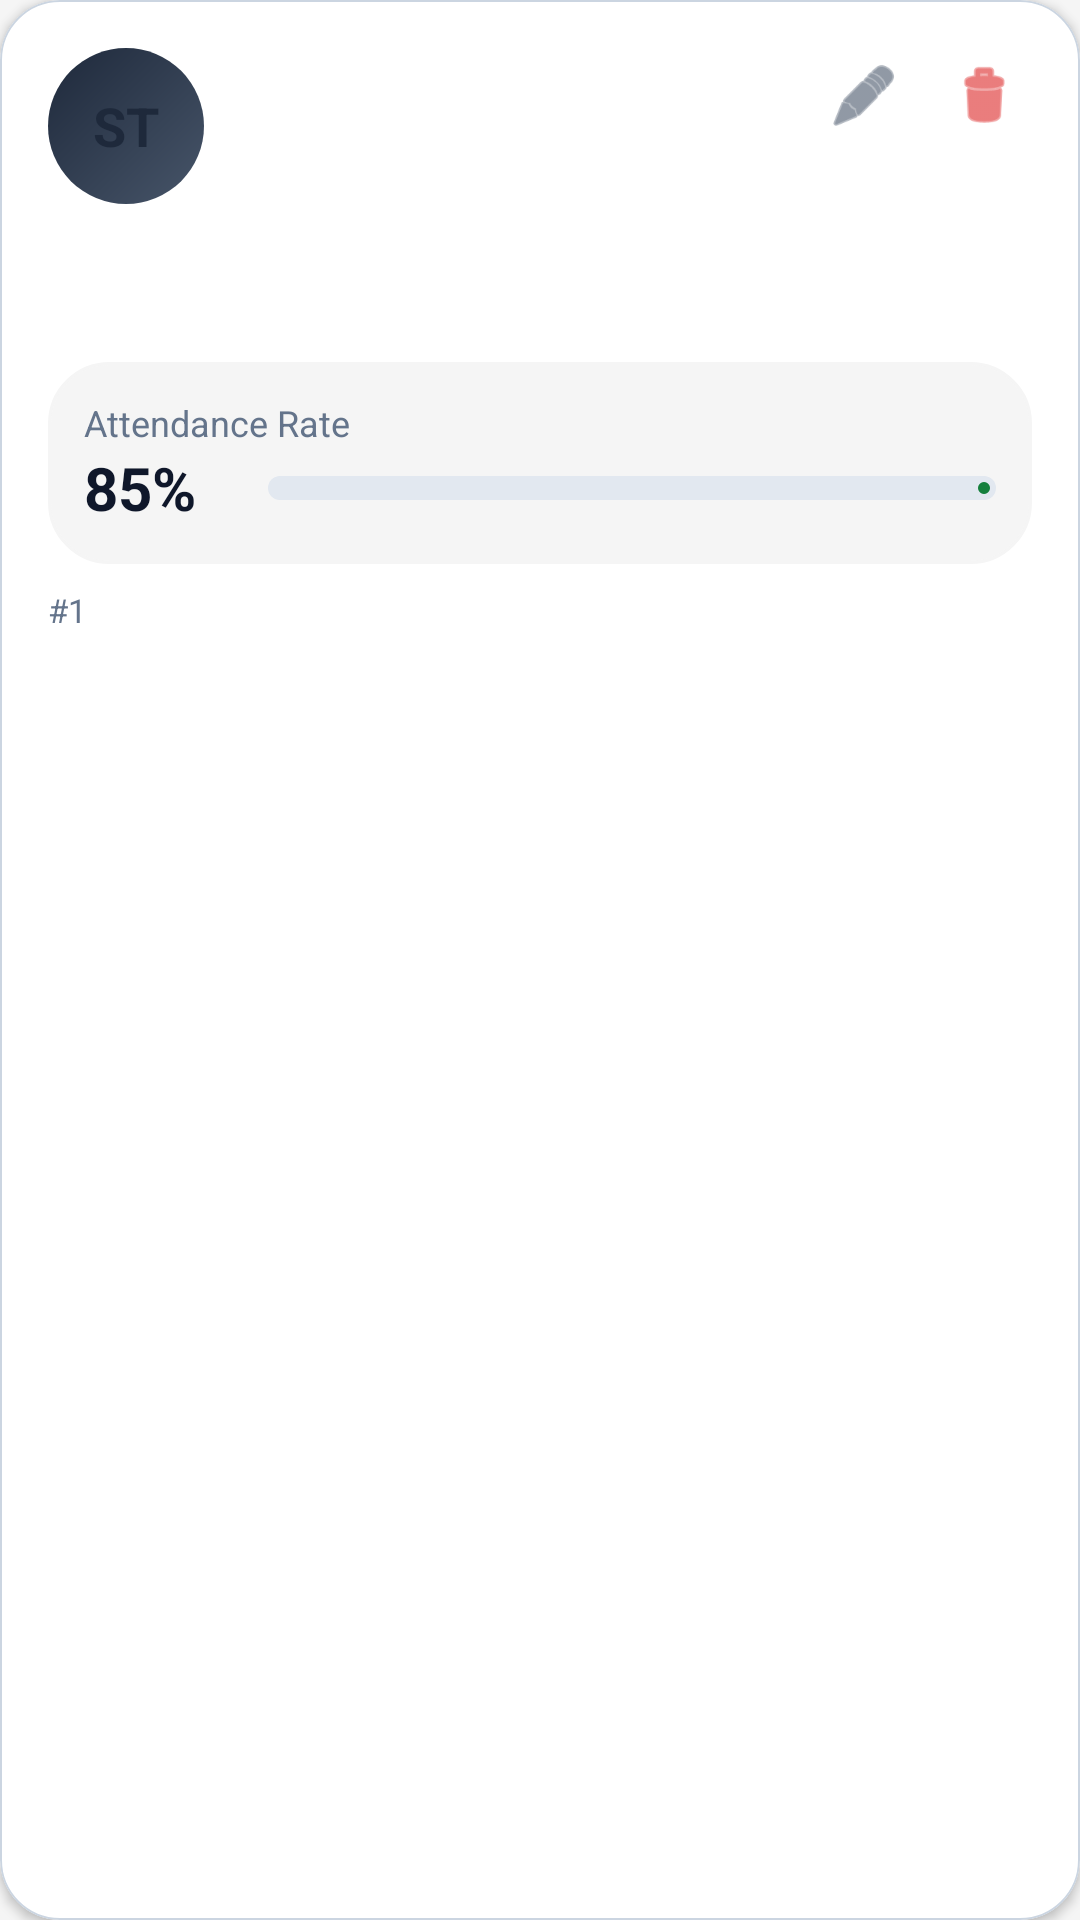

Where icons sit on this 1080×1920 app screen, as (x1, y1, x2, y2):
delete: (964, 67, 1005, 123)
edit: (833, 65, 894, 126)
